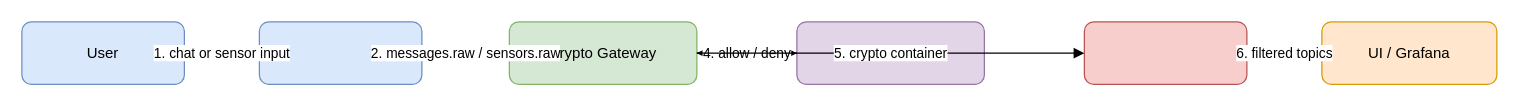
This 1519x106 diagram has some shape labels left out. Here are the shapes that lost their labels. From the top down, the centre of each, then its label:
the point at 340,52: Web App
the point at 1165,52: Filter
